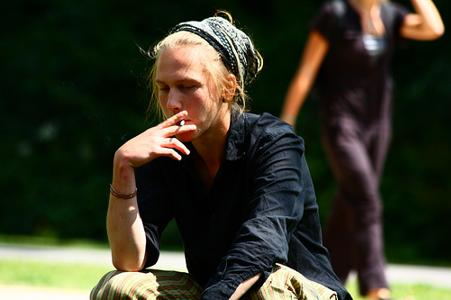person: (90, 17, 357, 300)
